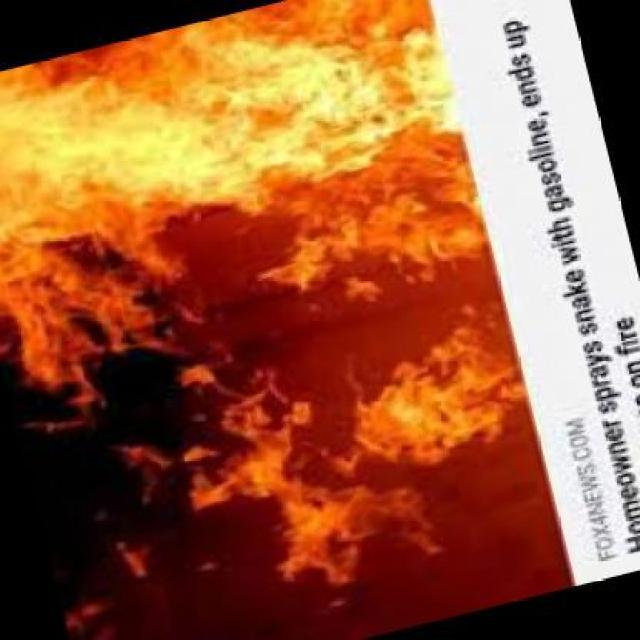Fire: (0, 70, 454, 610), (218, 16, 436, 68)
